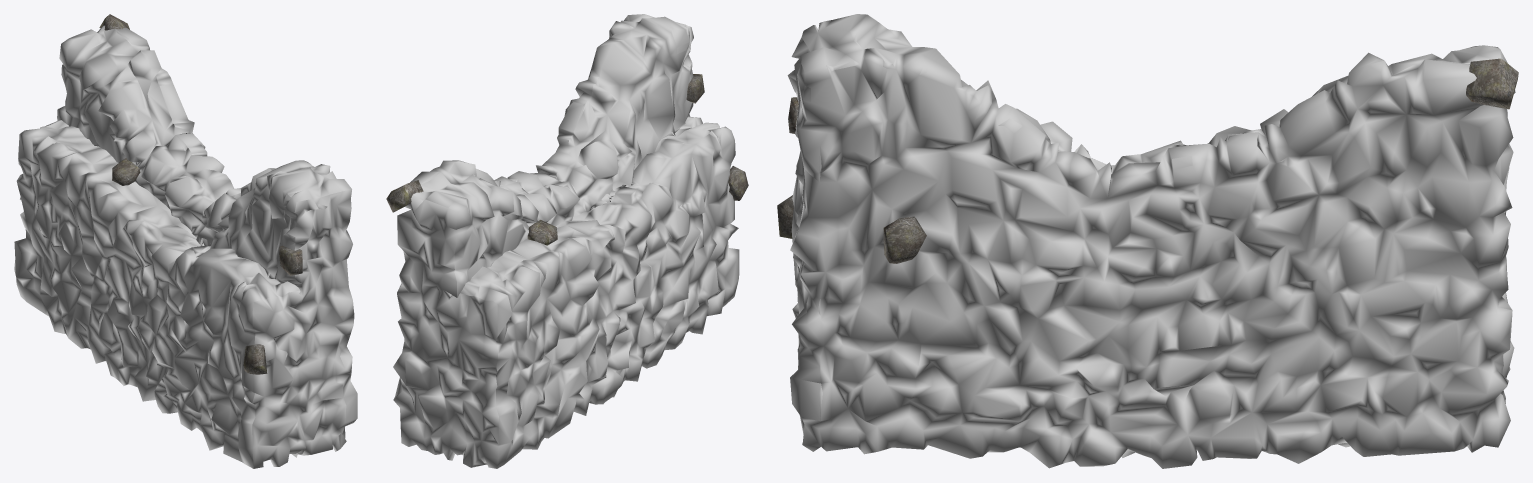
Rendered from SM_Wall_Stone_03.fbx.
3 renders of one model, left to right at view 1: azimuth 30°, elevation 25°; view 2: azimuth 150°, elevation 25°; view 3: azimuth 270°, elevation 25°, orthographic. The views are drawn at different scales.
Visible parts, largest first — view 1: SM_Wall_Stone_03_LOD0; view 2: SM_Wall_Stone_03_LOD0; view 3: SM_Wall_Stone_03_LOD0.
Part boxes in pixels (box(x1,y1,x2,y2)): SM_Wall_Stone_03_LOD0: box(14, 14, 357, 468); SM_Wall_Stone_03_LOD0: box(386, 14, 748, 468); SM_Wall_Stone_03_LOD0: box(777, 14, 1518, 468).
Bounding box in the file's own units: 159 × 527 × 328.
